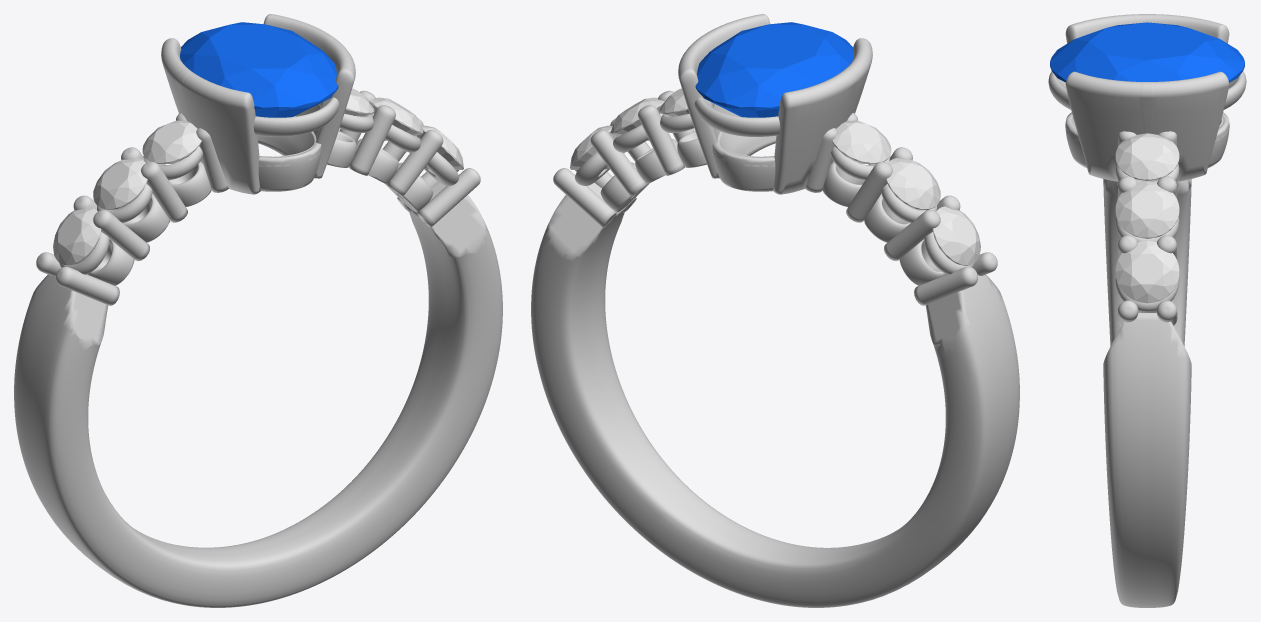
Rendered from bluesapphire-oval-platinum-halfmoonbezel-straighttaperedband-7stone.glb.
3 renders of one model, left to right at view 1: azimuth 30°, elevation 25°; view 2: azimuth 150°, elevation 25°; view 3: azimuth 270°, elevation 25°, orthographic.
Parts seen in each view (by area): view 1: metal, stone.001, side.013, side.012, side.014, side.016; view 2: metal, stone.001, side.013, side.012, side.014, side.016; view 3: metal, stone.001, side.015, side.016, side.017.
Boxes of the visible parts, x1,y1,x2,y2 form: metal: (14,14,502,607); stone.001: (180,22,338,117); side.013: (93,158,147,210); side.012: (53,206,101,265); side.014: (142,120,201,163); side.016: (369,97,423,140); metal: (531,14,1019,607); stone.001: (695,22,853,117); side.013: (886,158,940,210); side.012: (932,206,980,265); side.014: (832,120,891,163); side.016: (610,97,664,140); metal: (1048,14,1246,607); stone.001: (1050,22,1244,82); side.015: (1115,240,1179,303); side.016: (1115,181,1179,238); side.017: (1115,133,1179,180).
Size of the model in its own units: 20.5 by 23.41 by 7.75.
